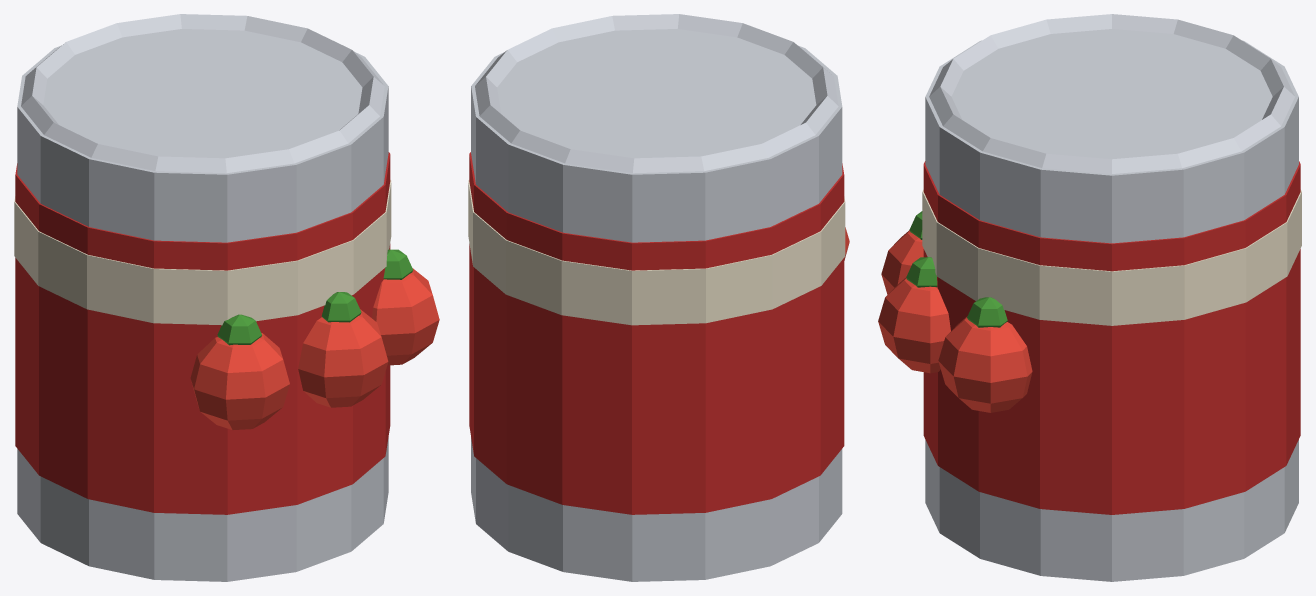
File: can.glb
3 renders of one model, left to right at view 1: azimuth 30°, elevation 25°; view 2: azimuth 150°, elevation 25°; view 3: azimuth 270°, elevation 25°, orthographic.
Parts seen in each view (by area): view 1: can; view 2: can; view 3: can.
Boxes of the visible parts, bbox=[...] form: can: bbox=[14, 14, 439, 581]; can: bbox=[468, 14, 849, 581]; can: bbox=[878, 14, 1301, 581].
Bounding box in the file's own units: 0.1034 × 0.123 × 0.1135.
